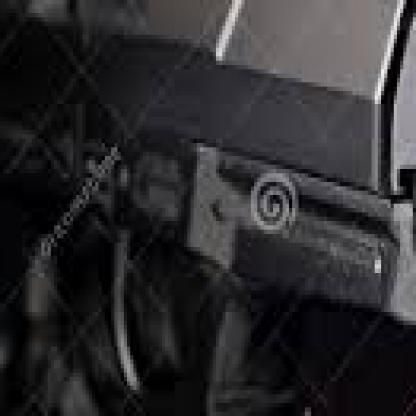gun: (0, 0, 413, 360)
